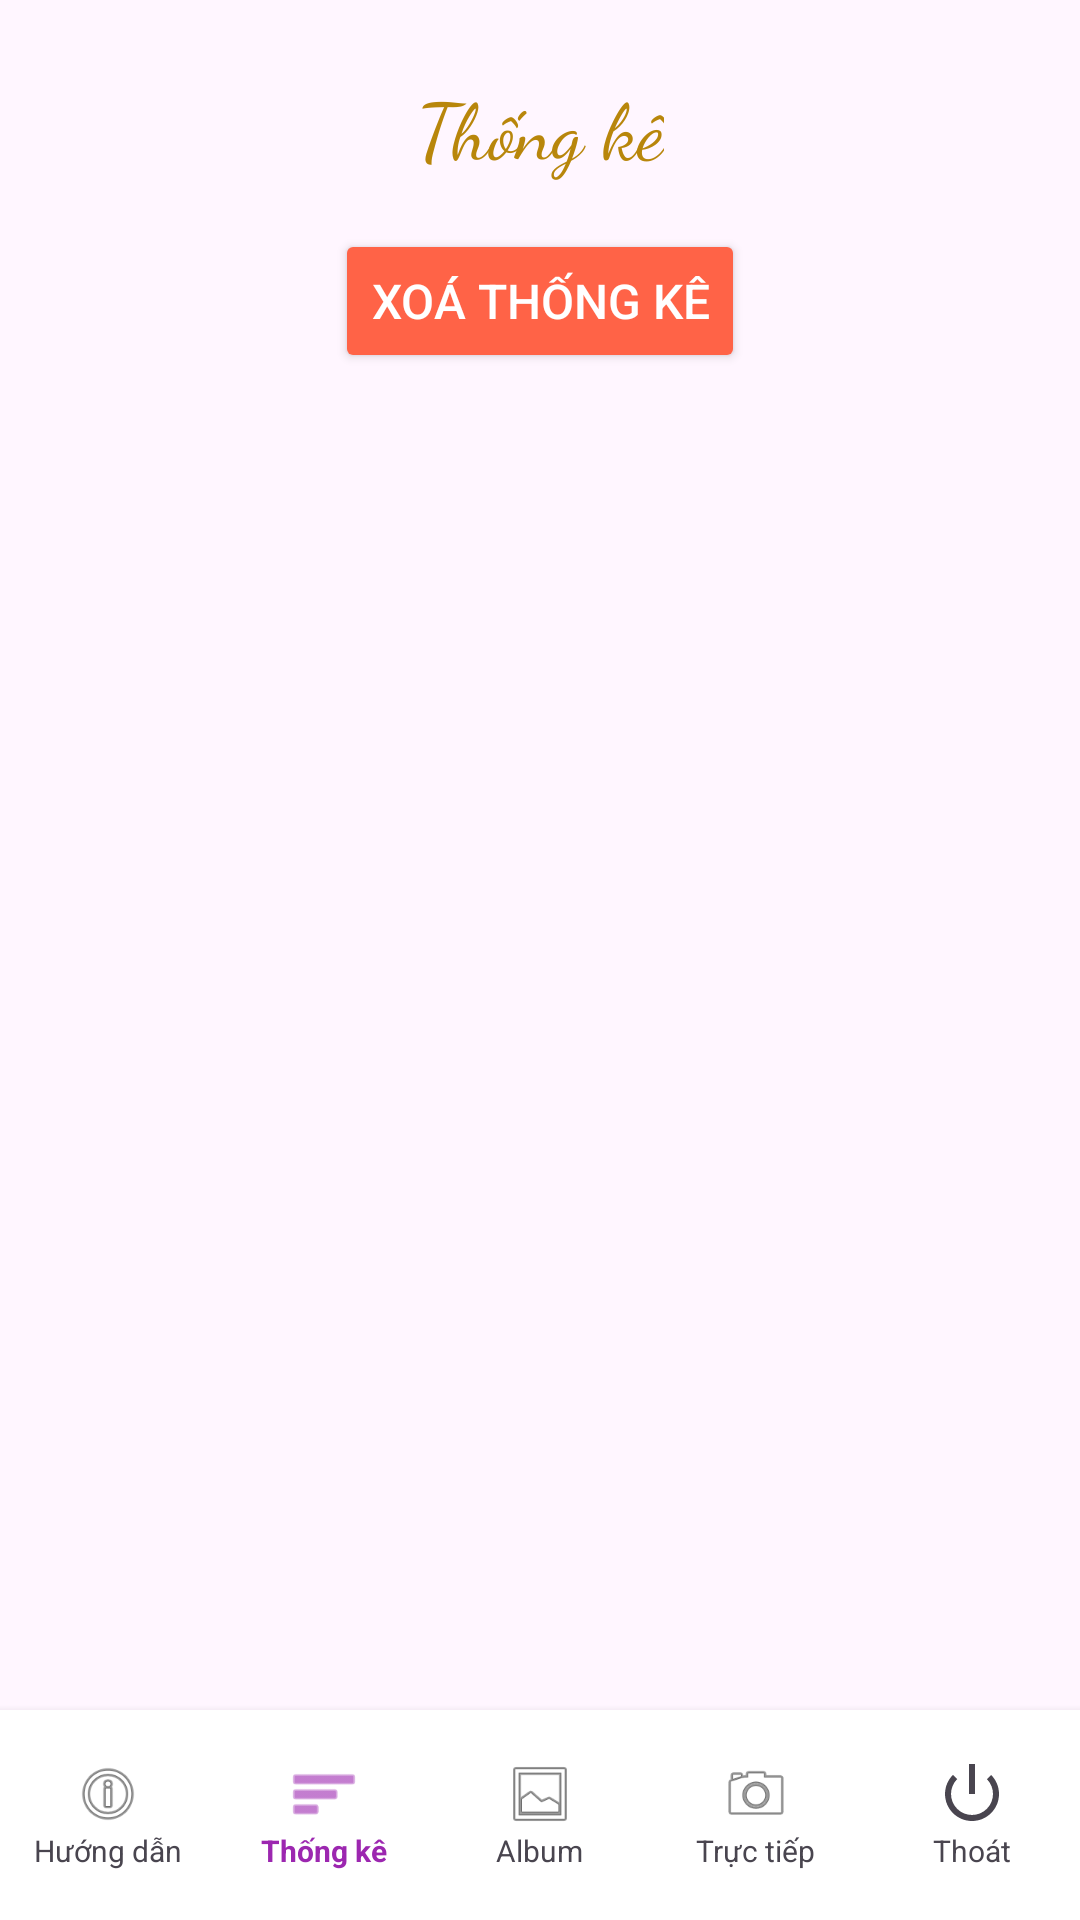

Named icons in this screenshot (1080w x 1920h) and their bounding boxes, (x1, y1, x2, y2):
camera: (728, 1771, 784, 1815)
info details: (82, 1768, 134, 1820)
lock power off: (945, 1764, 999, 1821)
sort by size: (293, 1774, 355, 1815)
